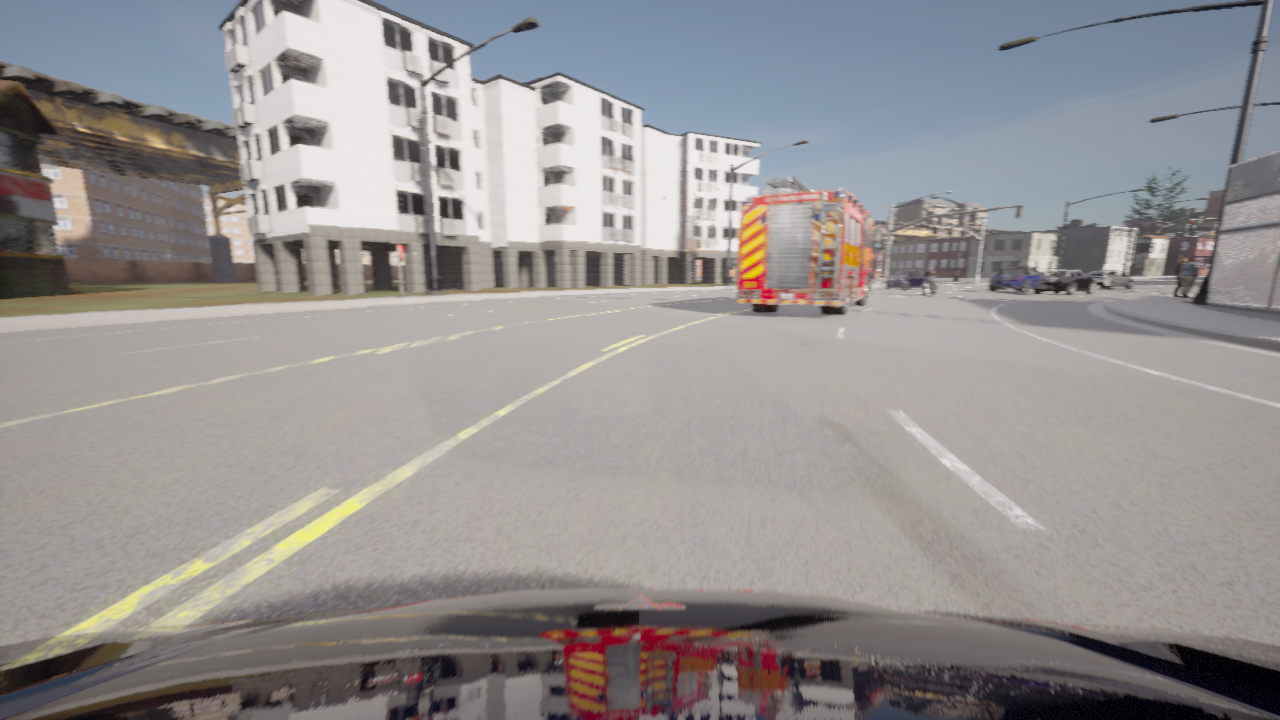cyclist: (0, 588, 1279, 719), (737, 175, 881, 315), (1033, 270, 1095, 295), (989, 266, 1042, 292), (1084, 270, 1133, 289), (884, 270, 924, 289), (922, 276, 936, 295)
pedestrian: (1179, 256, 1199, 297), (1173, 257, 1186, 296)
